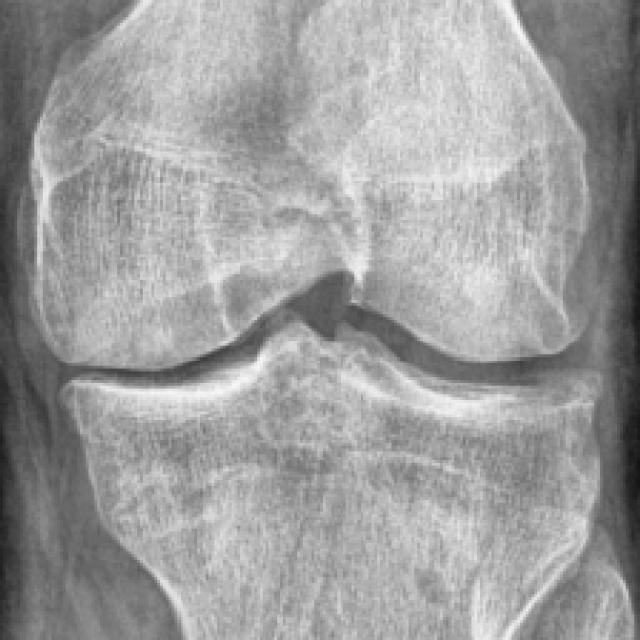femur: (28, 0, 598, 371)
tibia: (69, 326, 602, 637)
